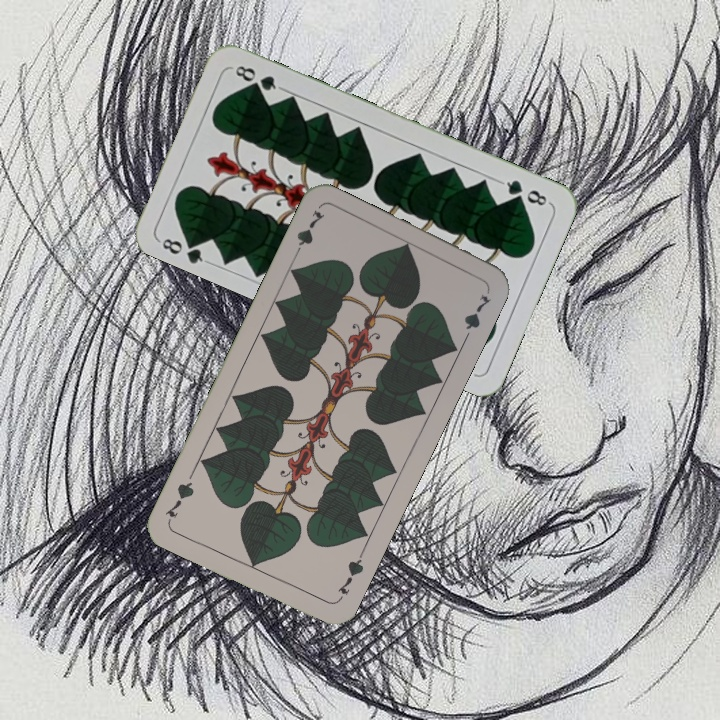G7: (289, 206, 328, 261), (332, 548, 367, 604)
G8: (155, 232, 211, 267), (496, 176, 552, 209)
